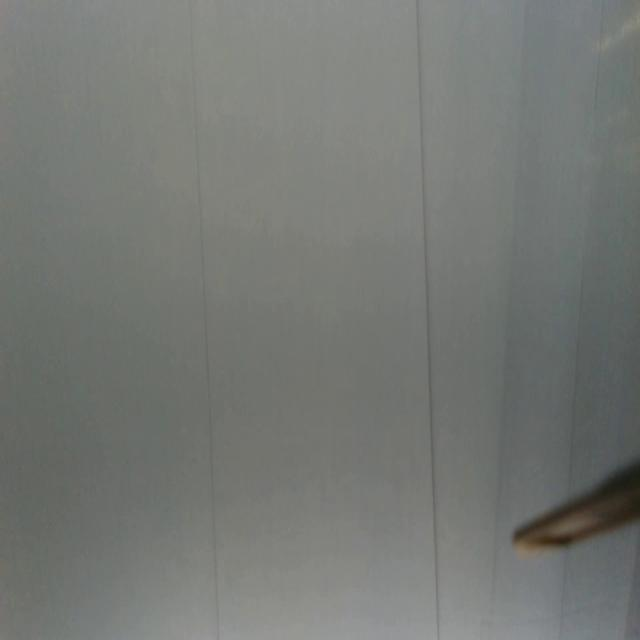crease: (487, 0, 527, 602), (188, 0, 222, 640), (566, 2, 604, 484), (414, 0, 440, 640)
